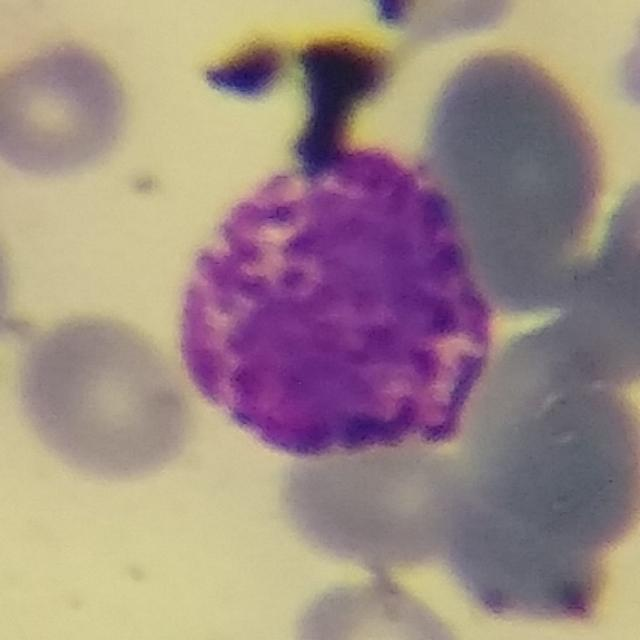baso: (176, 145, 494, 457)
